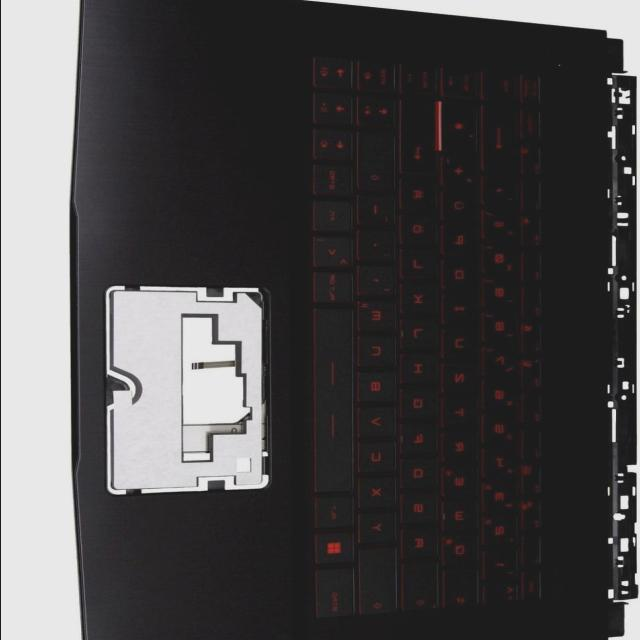0: (484, 245, 521, 277)
1: (484, 551, 520, 582)
2: (483, 516, 521, 548)
3: (483, 482, 520, 513)
4: (484, 449, 521, 480)
5: (483, 415, 520, 447)
6: (484, 381, 520, 413)
7: (484, 348, 521, 379)
8: (484, 313, 521, 344)
9: (484, 279, 521, 311)
a: (401, 529, 441, 562)
accent: (484, 178, 520, 208)
ae: (401, 181, 440, 213)
alt-left: (315, 497, 357, 531)
altgr-right: (314, 273, 356, 307)
b: (358, 372, 398, 406)
c: (359, 442, 399, 476)
caret: (484, 585, 518, 607)
comma: (358, 266, 398, 300)
d: (401, 459, 441, 491)
del: (483, 107, 521, 175)
e: (443, 468, 481, 500)
enter: (401, 100, 441, 178)
f: (401, 425, 440, 457)
g: (401, 390, 440, 422)
h: (402, 355, 441, 387)
hash: (443, 103, 481, 155)
i: (444, 296, 482, 327)
j: (402, 320, 442, 352)
k: (401, 285, 441, 317)
keyboard: (296, 42, 550, 634)
l: (401, 251, 441, 283)
less: (313, 237, 354, 271)
m: (359, 301, 399, 335)
minus: (359, 196, 398, 230)
n: (359, 336, 399, 370)
o: (443, 261, 481, 293)
oe: (401, 216, 440, 248)
p: (443, 226, 481, 258)
plus: (443, 157, 481, 190)
point: (358, 232, 398, 264)
q: (443, 535, 481, 569)
r: (443, 433, 482, 465)
s: (401, 494, 441, 527)
shift-left: (360, 549, 401, 618)
shift-lock: (403, 564, 442, 614)
shift-right: (359, 133, 399, 193)
space: (314, 308, 357, 496)
ss: (484, 212, 521, 243)
strg-left: (315, 568, 357, 622)
strg-right: (313, 164, 355, 198)
t: (443, 399, 481, 430)
tab: (445, 571, 482, 611)
u: (443, 329, 481, 361)
ue: (443, 192, 481, 224)
v: (358, 407, 398, 441)
w: (442, 501, 482, 534)
x: (359, 478, 399, 512)
y: (359, 513, 399, 547)
z: (443, 364, 482, 396)
